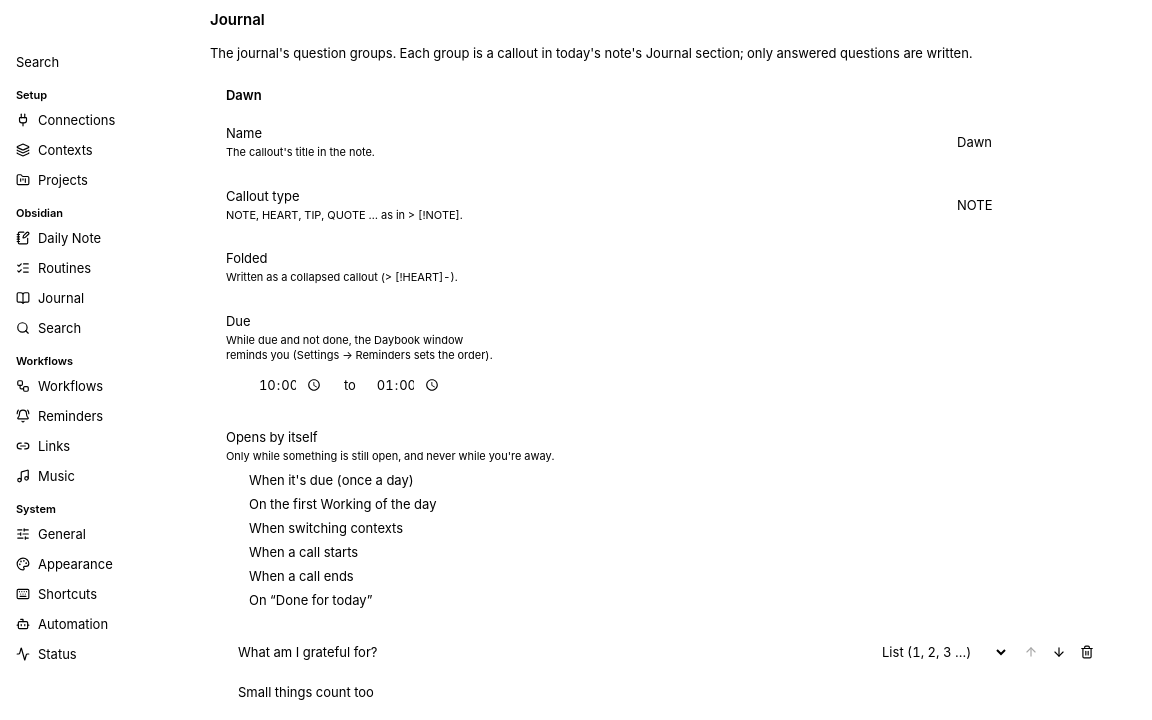
Test: JournalPage › group fields › saves the name on Enter
This screenshot has width=1152, height=720.
Type "x" into the field labelled "Name".
click(1023, 142); type("x")  # box [945,126,1101,158]
Then press Enter
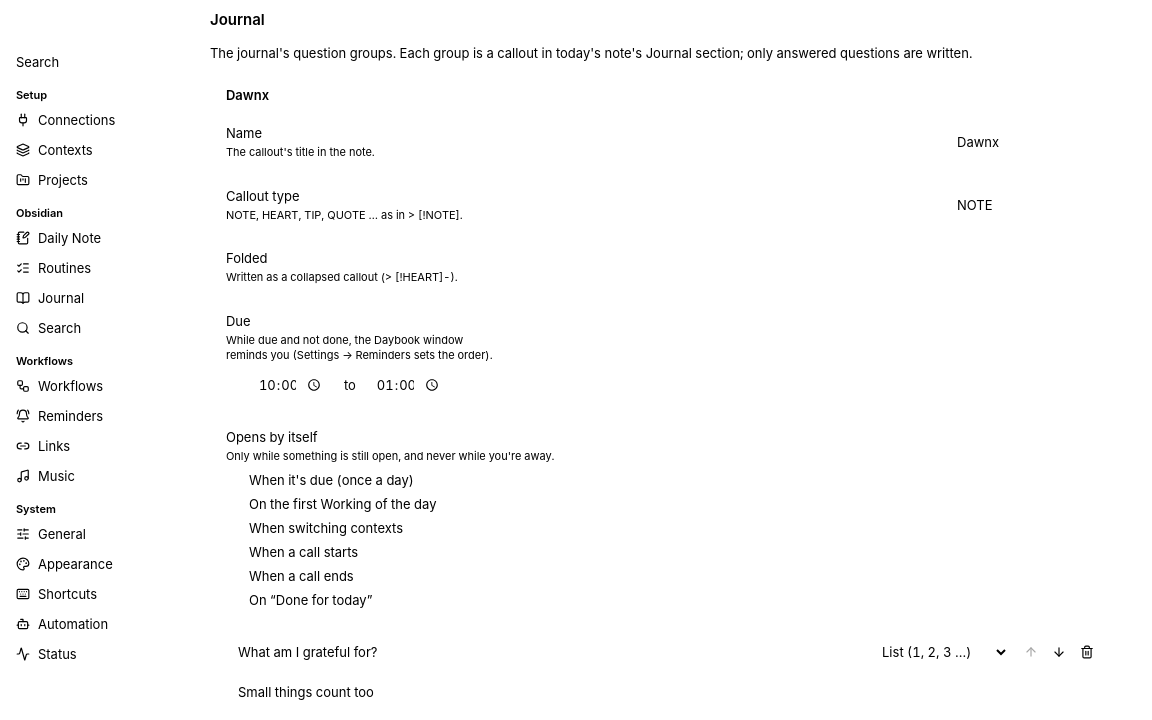
Expected: the heading "Dawnx" is shown, [226,87,269,103]
